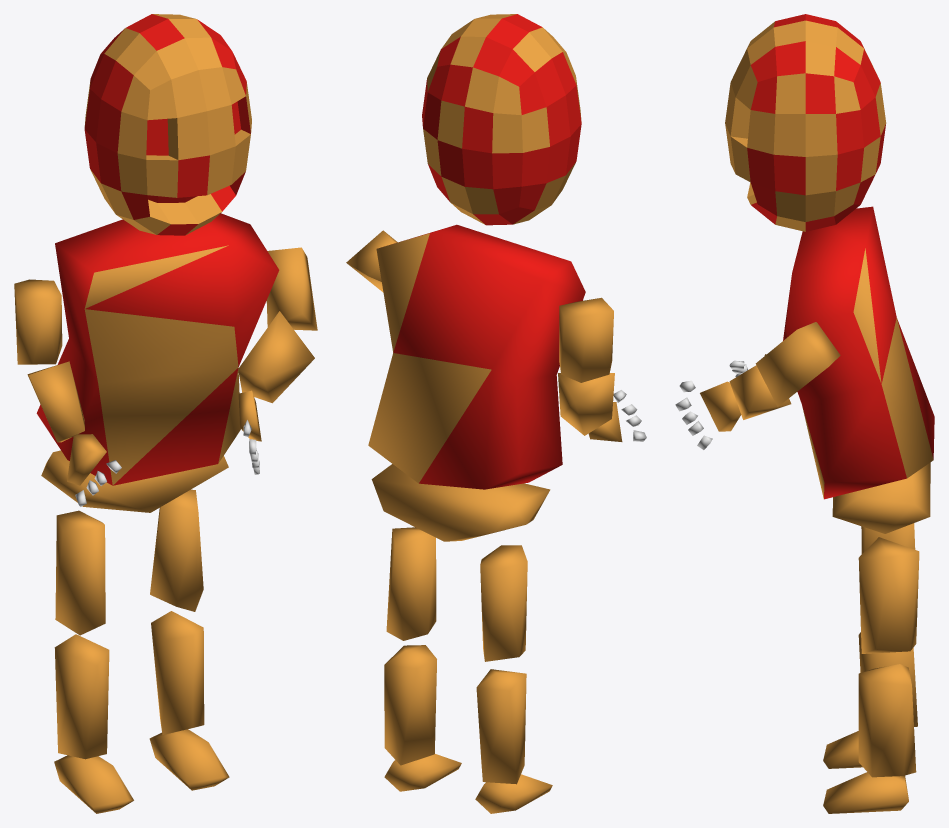
File: EnemyTest.fbx
The picture shows the model from 3 angles, left to right: view 1: azimuth 30°, elevation 25°; view 2: azimuth 150°, elevation 25°; view 3: azimuth 270°, elevation 25°; orthographic projection. The views are drawn at different scales.
Parts seen in each view (by area): view 1: Torso.001, Cube.040, Cube.070, Cube.069, Cube.067, Cube.066, Cube.065, Cube.017, Cube.034, Cube.015, Cube.068, Cube.071 (+3 smaller); view 2: Torso.001, Cube.040, Cube.065, Cube.067, Cube.070, Cube.066, Cube.069, Cube.034, Cube.036, Cube.071, Cube.068, Cube.015 (+1 smaller); view 3: Torso.001, Cube.040, Cube.066, Cube.067, Cube.065, Cube.015, Cube.068, Cube.017, Cube.019, Cube.070, Cube.071, Cube.069.
Part boxes in pixels (x1,y1,x2,y2): Torso.001: (36,213,279,485); Cube.040: (84,14,251,235); Cube.070: (54,634,109,759); Cube.069: (55,510,105,635); Cube.067: (151,611,204,734); Cube.066: (150,489,203,611); Cube.065: (41,450,228,512); Cube.017: (238,311,314,403); Cube.034: (14,279,62,364); Cube.015: (266,247,317,330); Cube.068: (149,729,229,790); Cube.071: (54,755,133,813); Torso.001: (368,224,585,489); Cube.040: (422,14,581,225); Cube.065: (371,464,550,541); Cube.067: (384,645,436,765); Cube.070: (476,669,526,784); Cube.066: (386,527,436,640); Cube.069: (480,545,527,661); Cube.034: (559,297,613,382); Cube.036: (558,373,614,435); Cube.071: (475,774,552,813); Cube.068: (384,754,461,791); Cube.015: (346,230,397,292); Torso.001: (783,206,934,499); Cube.040: (725,14,886,231); Cube.066: (858,537,919,653); Cube.067: (858,664,916,777); Cube.065: (832,462,930,533); Cube.015: (755,322,840,406); Cube.068: (823,772,908,813); Cube.017: (729,365,791,419); Cube.019: (700,381,741,431); Cube.070: (858,632,917,726); Cube.071: (823,731,862,768); Cube.069: (861,523,915,553).
Bounding box in the file's own units: 51.81 × 137 × 42.13.
